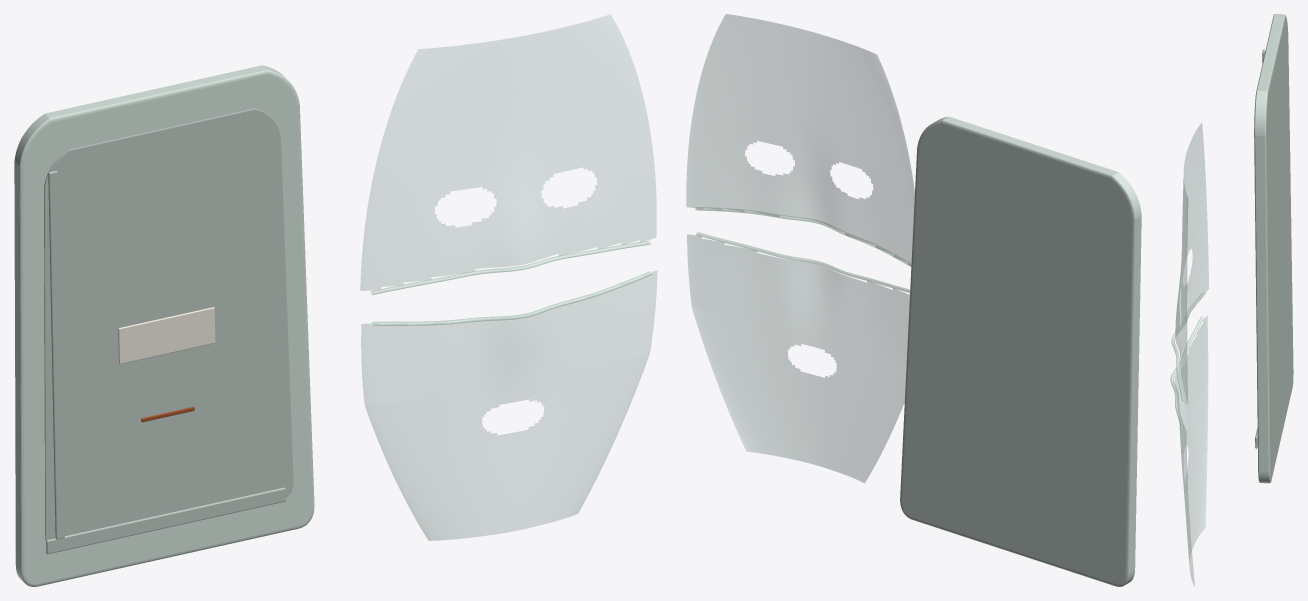
Rendered from gt-mask-split-030.glb.
3 views of the same model, side by side, from view 1: azimuth 30°, elevation 25°; view 2: azimuth 150°, elevation 25°; view 3: azimuth 270°, elevation 25° (orthographic). The views are drawn at different scales.
Parts seen in each view (by area): view 1: Sachet_Sculpted_Front_Panel, Split_Upper_Hydrogel_Sheet, Split_Lower_Hydrogel_Sheet, Premium_Sachet_Shell, Sachet_Left_Fin, Configurable_Label_Plate, Sachet_Base_Gusset, Split_Lower_Edge_Rim, Split_Upper_Edge_Rim; view 2: Premium_Sachet_Shell, Split_Upper_Hydrogel_Sheet, Split_Lower_Hydrogel_Sheet, Split_Lower_Edge_Rim, Split_Upper_Edge_Rim; view 3: Premium_Sachet_Shell, Split_Lower_Hydrogel_Sheet, Split_Upper_Hydrogel_Sheet, Split_Upper_Edge_Rim, Split_Lower_Edge_Rim.
Boxes of the visible parts, left/top/right/bottom form: Sachet_Sculpted_Front_Panel: left=44, top=108, right=293, bottom=541; Split_Upper_Hydrogel_Sheet: left=360, top=14, right=656, bottom=290; Split_Lower_Hydrogel_Sheet: left=361, top=270, right=657, bottom=540; Premium_Sachet_Shell: left=14, top=65, right=314, bottom=586; Sachet_Left_Fin: left=48, top=170, right=64, bottom=539; Configurable_Label_Plate: left=118, top=307, right=215, bottom=364; Sachet_Base_Gusset: left=46, top=487, right=285, bottom=554; Split_Lower_Edge_Rim: left=372, top=271, right=651, bottom=325; Split_Upper_Edge_Rim: left=371, top=240, right=650, bottom=294; Premium_Sachet_Shell: left=900, top=116, right=1141, bottom=586; Split_Upper_Hydrogel_Sheet: left=686, top=14, right=914, bottom=265; Split_Lower_Hydrogel_Sheet: left=687, top=234, right=909, bottom=483; Split_Lower_Edge_Rim: left=696, top=232, right=910, bottom=292; Split_Upper_Edge_Rim: left=695, top=207, right=911, bottom=266; Premium_Sachet_Shell: left=1254, top=14, right=1293, bottom=483; Split_Lower_Hydrogel_Sheet: left=1174, top=315, right=1207, bottom=585; Split_Upper_Hydrogel_Sheet: left=1175, top=123, right=1208, bottom=403; Split_Upper_Edge_Rim: left=1171, top=292, right=1205, bottom=403; Split_Lower_Edge_Rim: left=1170, top=316, right=1203, bottom=427.
Size of the model in its own units: 3.67 by 3.01 by 0.8326.
